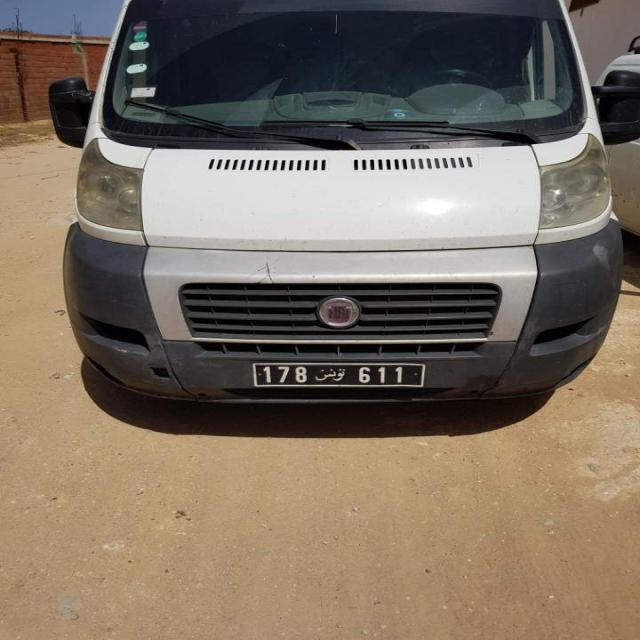LP: (250, 360, 426, 389)
